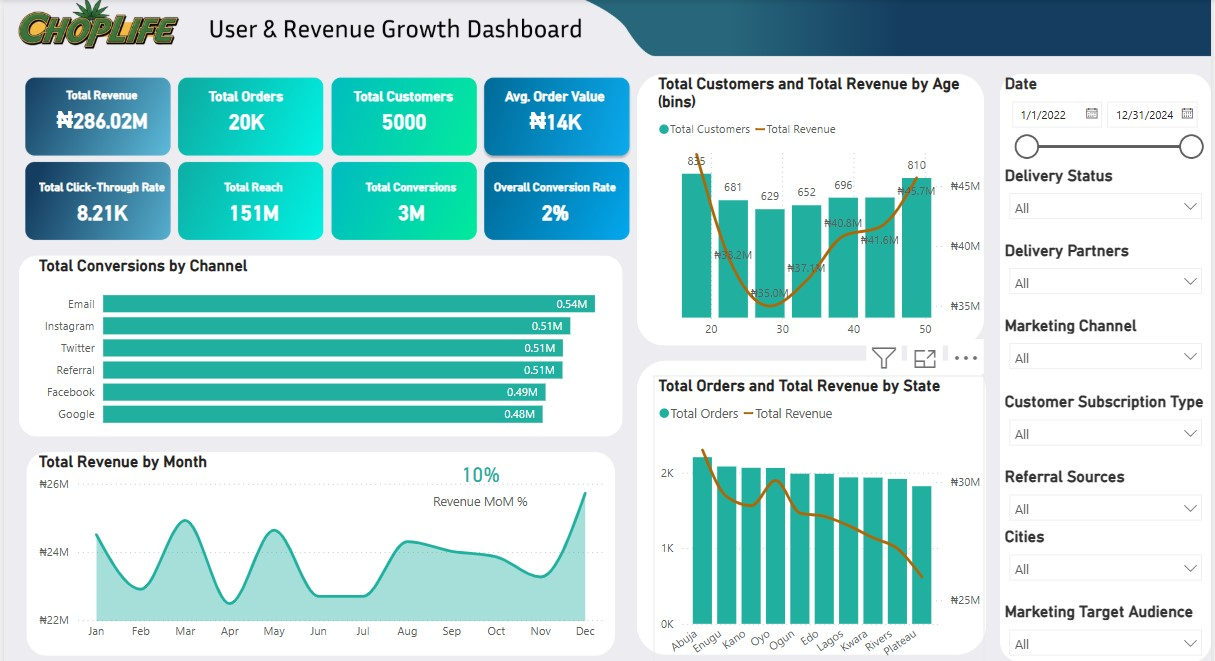

Layout of this report page (visuals, bound fields, positions):
{"tool":"powerbi","page":{"name":"Growth Dashboard","canvas":[1280,720],"ordinal":0},"visuals":[{"type":"shape","box":[16,272,640,192],"z":0},{"type":"shape","box":[672,384,370,312],"z":1000},{"type":"shape","box":[24,480,624,216],"z":2000},{"type":"shape","box":[1056,80,224,624],"z":3000},{"type":"shape","box":[672,80,368,288],"z":4000},{"type":"card","title":"Total Revenue","fields":{"Values":["Aggregate Measures.Total Revenue"]},"box":[48,80,112,80],"z":5000},{"type":"slicer","title":"Date","fields":{"Values":["DimDate.Date"]},"box":[1056,80,224,96],"z":6000},{"type":"slicer","title":"Delivery Status","fields":{"Values":["DimDeliveryStatus.DeliveryStatus"]},"box":[1056,176,224,80],"z":7000},{"type":"slicer","title":"Delivery Partners","fields":{"Values":["DimDeliveryPartner.DeliveryPartner"]},"box":[1056,256,224,80],"z":8000},{"type":"slicer","title":"Marketing Channel","fields":{"Values":["DimChannels.Channel"]},"box":[1056,336,224,80],"z":9000},{"type":"slicer","title":"Customer Subscription Type","fields":{"Values":["DimSubscriptionType.SubscriptionType"]},"box":[1056,416,224,80],"z":10000},{"type":"slicer","title":"Referral Sources","fields":{"Values":["DimReferralSource.ReferralSource"]},"box":[1056,496,224,64],"z":11000},{"type":"slicer","title":"Cities","fields":{"Values":["DimLocation.City"]},"box":[1056,560,224,80],"z":12000},{"type":"card","title":"Total Customers","fields":{"Values":["Aggregate Measures.Total Customers"]},"box":[352,80,144,80],"z":13000},{"type":"card","title":"Total Orders","fields":{"Values":["Aggregate Measures.Total Orders"]},"box":[192,80,128,80],"z":14000},{"type":"card","title":"Avg. Order Value","fields":{"Values":["Aggregate Measures.Avg Order Value"]},"box":[512,80,144,80],"z":15000},{"type":"slicer","title":"Marketing Target Audience","fields":{"Values":["DimTargetAudience.TargetAudience"]},"box":[1056,640,224,64],"z":16000},{"type":"areaChart","fields":{"Category":["Datetable.Month"],"Y":["Aggregate Measures.Total Revenue"]},"box":[32,480,608,208],"z":17000},{"type":"lineClusteredColumnComboChart","fields":{"Category":["DimLocation.State"],"Y":["Aggregate Measures.Total Orders"],"Y2":["Aggregate Measures.Total Revenue"]},"box":[688,400,352,320],"z":19000},{"type":"card","title":"Total Conversions","fields":{"Values":["Aggregate Measures.Total Conversions"]},"box":[352,176,160,80],"z":20000},{"type":"clusteredBarChart","fields":{"Category":["DimChannels.Channel"],"Y":["Aggregate Measures.Total Conversions"]},"box":[32,272,624,192],"z":21000},{"type":"card","title":"Total Click-Through Rate","fields":{"Values":["Sum(Marketing.CTR)"]},"box":[32,176,144,80],"z":22000},{"type":"card","title":"Total Reach","fields":{"Values":["Aggregate Measures.Total Reach"]},"box":[192,176,144,80],"z":23000},{"type":"card","title":"Overall Conversion Rate","fields":{"Values":["Aggregate Measures.Overall Conversion Rate"]},"box":[512,176,144,80],"z":24000},{"type":"lineClusteredColumnComboChart","fields":{"Category":["Customers.Age (bins)"],"Y":["Aggregate Measures.Total Customers"],"Y2":["Aggregate Measures.Total Revenue"]},"box":[688,80,352,288],"z":25000},{"type":"card","fields":{"Values":["Time Intelligence Measures.Revenue MoM %"]},"box":[432,480,144,64],"z":26000}]}

Visuals, with their boxes on the page's 1280x720 design canvas (x1, y1, x2, y2). These are canvas units, not pixel positions in the 1215x661 screenshot, which may show the page scaled, cropped or inside an application window:
shape: bbox=[16, 272, 656, 464]
shape: bbox=[672, 384, 1042, 696]
shape: bbox=[24, 480, 648, 696]
shape: bbox=[1056, 80, 1280, 704]
shape: bbox=[672, 80, 1040, 368]
"Total Revenue" card: bbox=[48, 80, 160, 160]
"Date" slicer: bbox=[1056, 80, 1280, 176]
"Delivery Status" slicer: bbox=[1056, 176, 1280, 256]
"Delivery Partners" slicer: bbox=[1056, 256, 1280, 336]
"Marketing Channel" slicer: bbox=[1056, 336, 1280, 416]
"Customer Subscription Type" slicer: bbox=[1056, 416, 1280, 496]
"Referral Sources" slicer: bbox=[1056, 496, 1280, 560]
"Cities" slicer: bbox=[1056, 560, 1280, 640]
"Total Customers" card: bbox=[352, 80, 496, 160]
"Total Orders" card: bbox=[192, 80, 320, 160]
"Avg. Order Value" card: bbox=[512, 80, 656, 160]
"Marketing Target Audience" slicer: bbox=[1056, 640, 1280, 704]
areaChart - Datetable.Month x Aggregate Measures.Total Revenue: bbox=[32, 480, 640, 688]
lineClusteredColumnComboChart - DimLocation.State x Aggregate Measures.Total Orders: bbox=[688, 400, 1040, 720]
"Total Conversions" card: bbox=[352, 176, 512, 256]
clusteredBarChart - DimChannels.Channel x Aggregate Measures.Total Conversions: bbox=[32, 272, 656, 464]
"Total Click-Through Rate" card: bbox=[32, 176, 176, 256]
"Total Reach" card: bbox=[192, 176, 336, 256]
"Overall Conversion Rate" card: bbox=[512, 176, 656, 256]
lineClusteredColumnComboChart - Customers.Age (bins) x Aggregate Measures.Total Customers: bbox=[688, 80, 1040, 368]
card - Time Intelligence Measures.Revenue MoM %: bbox=[432, 480, 576, 544]
